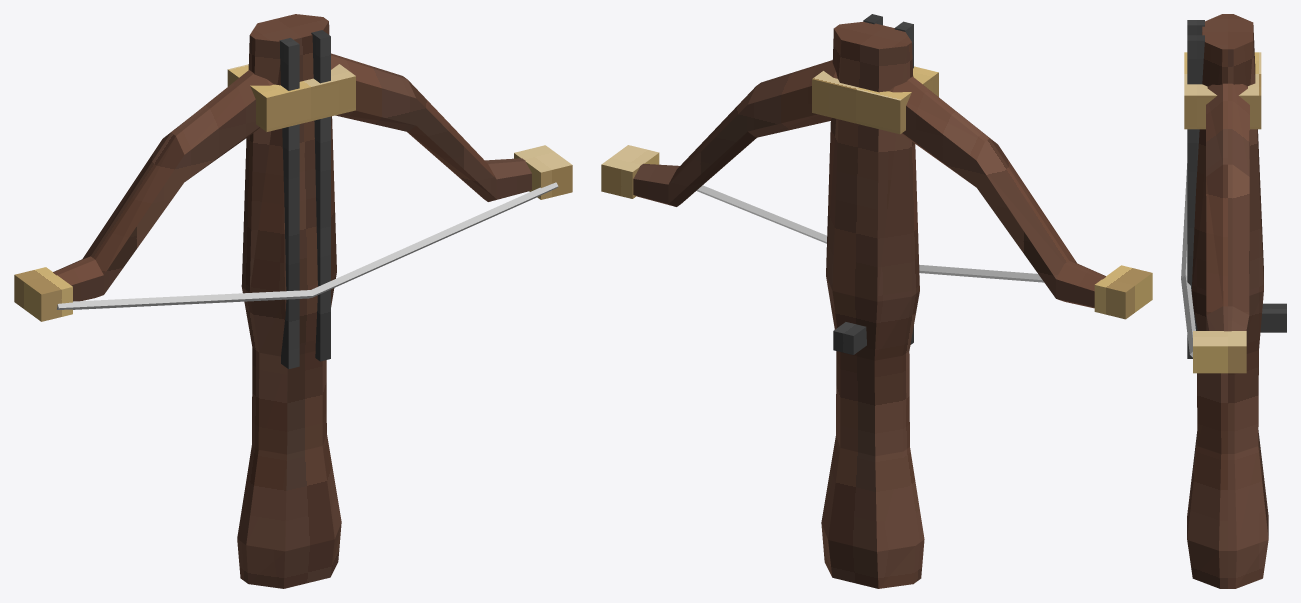
File: cutout.obj
The picture shows the model from 3 angles, left to right: view 1: azimuth 30°, elevation 25°; view 2: azimuth 150°, elevation 25°; view 3: azimuth 270°, elevation 25°; orthographic projection.
Size of the model in its own units: 1.22 by 1.19 by 0.213.
